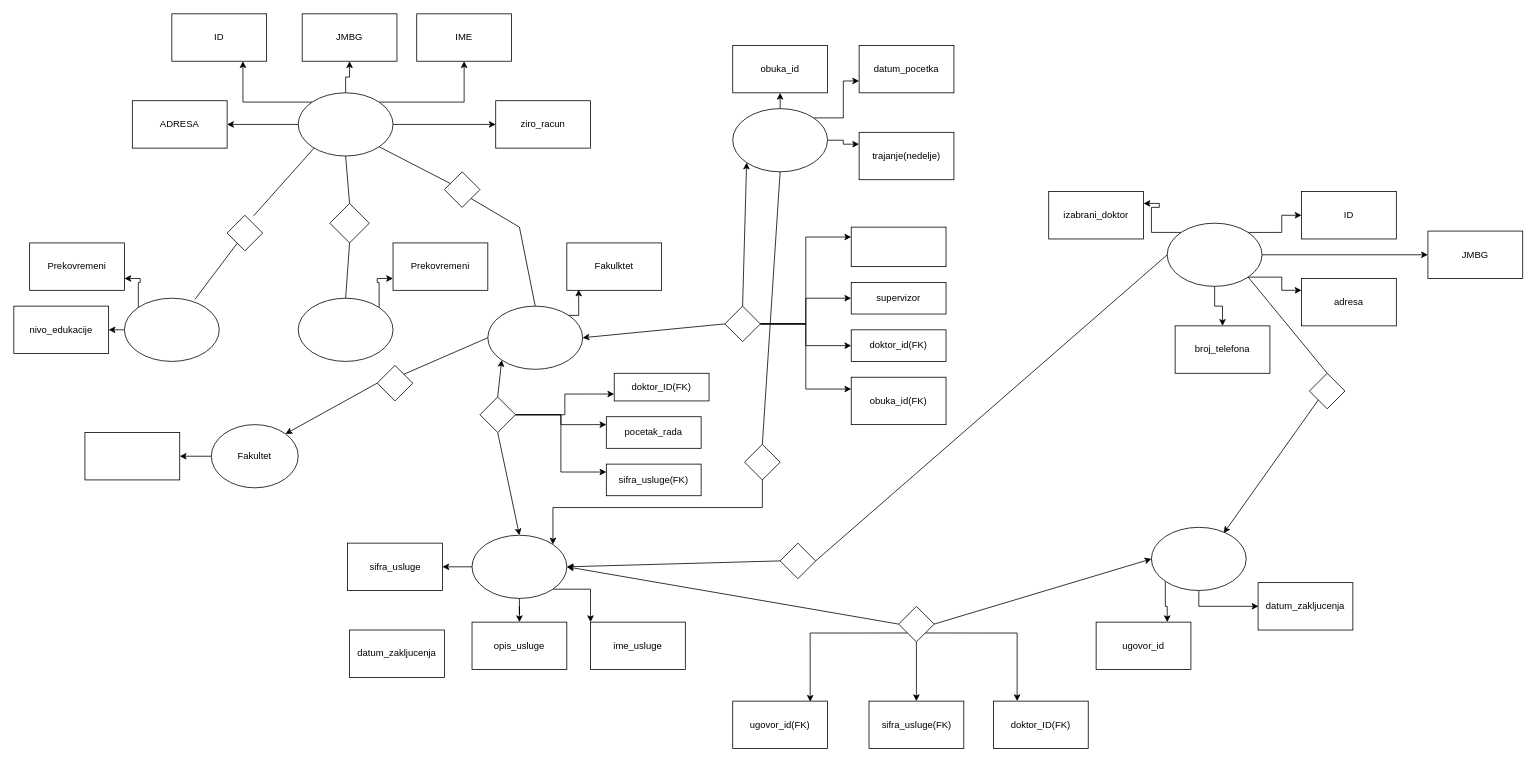
The diagram is 1537 pixels wide and 762 high, and some of its shapes have lost their labels. The shapes that lost their labels are listed below. From the top down, each one's centre as x and y in pixels, then its label:
[345,124]: Zaposleni
[780,140]: Obuka
[898,246]: trajanje_sati
[1214,254]: Pacijent
[171,329]: Administracija
[345,329]: Odrzavanje
[535,337]: Doktor
[132,456]: Ime_fakulteta
[519,566]: Usluge
[1198,559]: ugovor
